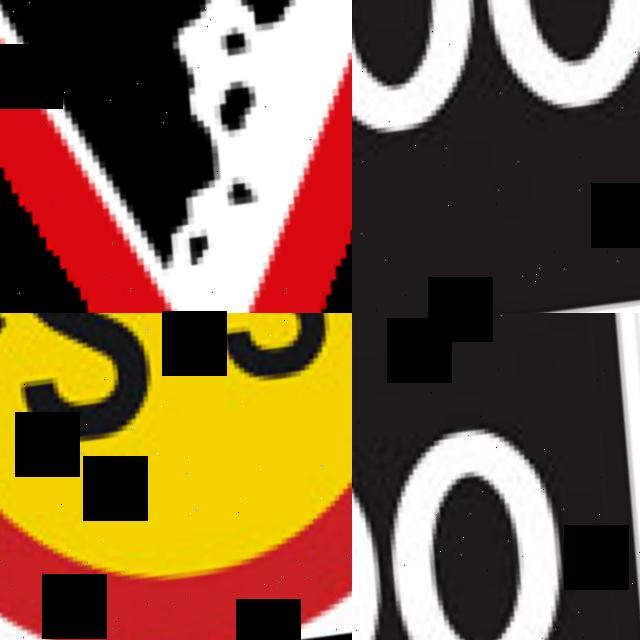100: (352, 313, 640, 640), (352, 0, 640, 313)
8: (0, 313, 352, 640)
Falling rocks: (0, 0, 352, 313)
